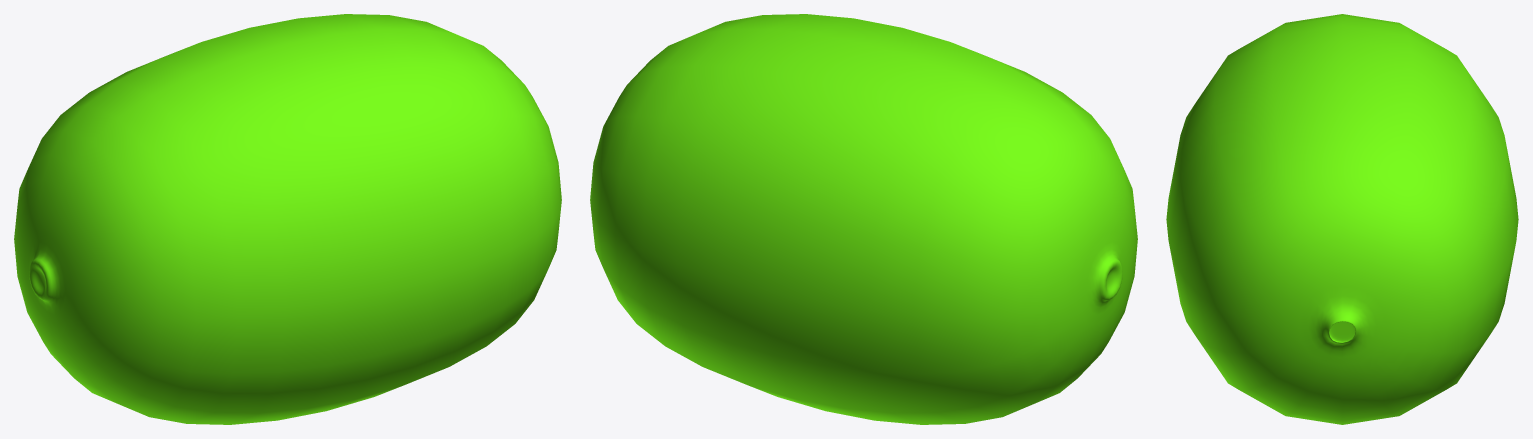
File: Kiwi.fbx
3 renders of one model, left to right at view 1: azimuth 30°, elevation 25°; view 2: azimuth 150°, elevation 25°; view 3: azimuth 270°, elevation 25°, orthographic. The views are drawn at different scales.
Parts seen in each view (by area): view 1: Kiwi_Body; view 2: Kiwi_Body; view 3: Kiwi_Body.
Part boxes in pixels (bbox=[...]): Kiwi_Body: bbox=[14, 14, 561, 424]; Kiwi_Body: bbox=[590, 14, 1137, 424]; Kiwi_Body: bbox=[1166, 14, 1518, 424].
Bounding box in the file's own units: 2.6 × 1.72 × 1.72.
